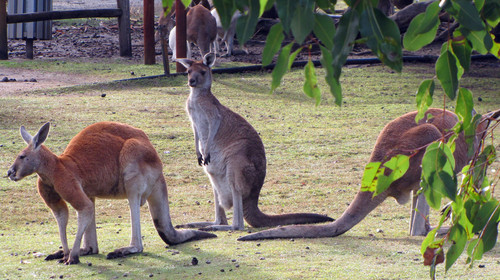kangaroo: (234, 102, 500, 250), (2, 122, 220, 264), (169, 51, 340, 231)
